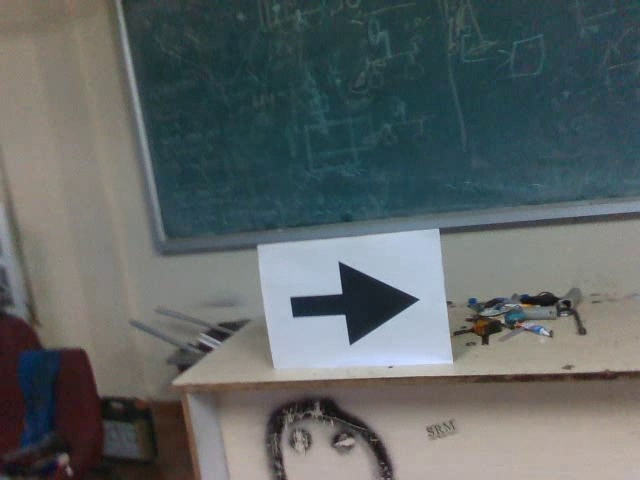Right: (277, 256, 426, 351)
